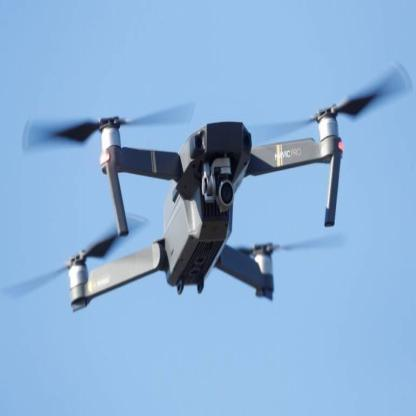drone: (25, 82, 386, 315)
